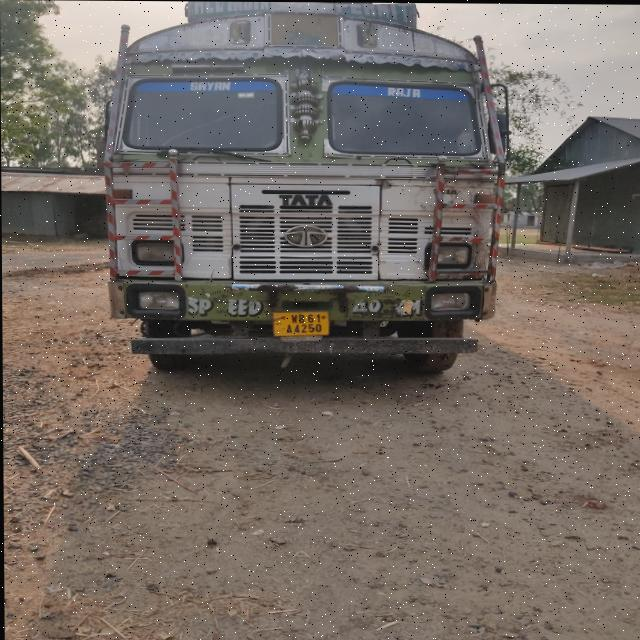plate: (271, 310, 331, 339)
